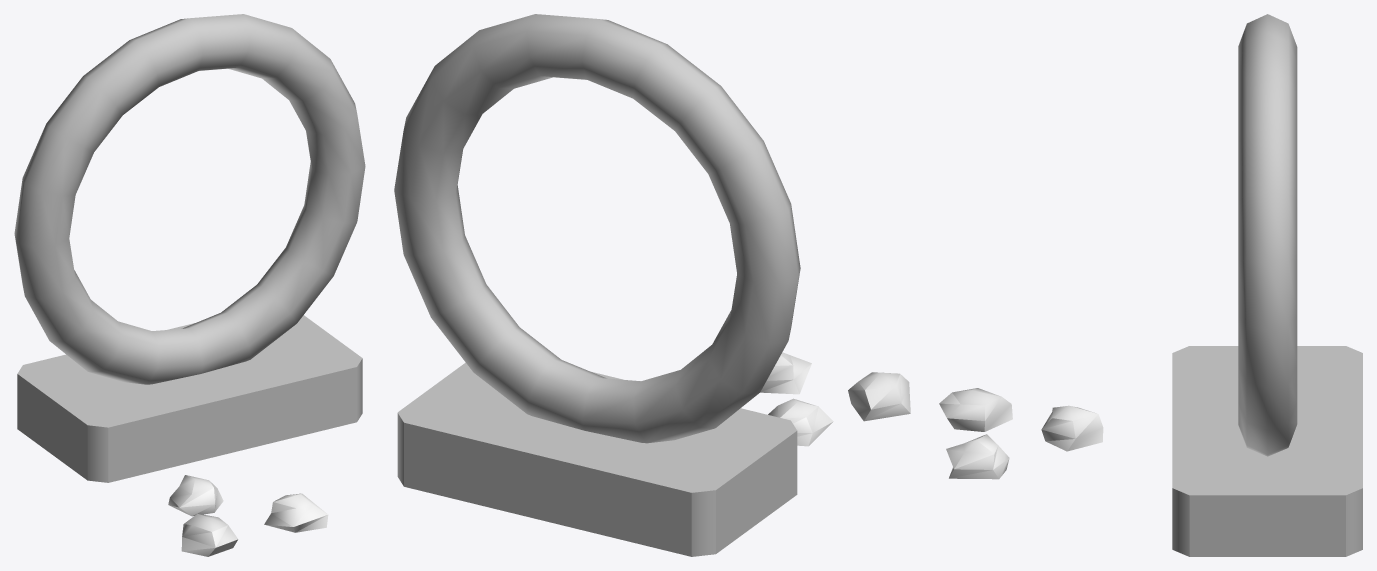
The model's file is hoopstone_ring.obj.
The picture shows the model from 3 angles, left to right: view 1: azimuth 30°, elevation 25°; view 2: azimuth 150°, elevation 25°; view 3: azimuth 270°, elevation 25°; orthographic projection. The views are drawn at different scales.
Parts seen in each view (by area): view 1: continuous_open_hoop, ground_plinth, throwing_stone_1, throwing_stone_3, throwing_stone_2; view 2: continuous_open_hoop, ground_plinth, throwing_stone_1, throwing_stone_2, throwing_stone_3; view 3: ground_plinth, continuous_open_hoop, throwing_stone_1, throwing_stone_2, throwing_stone_3.
Part boxes in pixels (bbox=[...]): continuous_open_hoop: bbox=[14, 14, 365, 384]; ground_plinth: bbox=[17, 315, 362, 482]; throwing_stone_1: bbox=[181, 513, 238, 556]; throwing_stone_3: bbox=[264, 493, 328, 532]; throwing_stone_2: bbox=[168, 475, 223, 516]; continuous_open_hoop: bbox=[394, 14, 800, 443]; ground_plinth: bbox=[397, 362, 797, 556]; throwing_stone_1: bbox=[848, 372, 910, 421]; throwing_stone_2: bbox=[768, 398, 833, 446]; throwing_stone_3: bbox=[760, 352, 811, 394]; ground_plinth: bbox=[1172, 346, 1362, 556]; continuous_open_hoop: bbox=[1238, 14, 1297, 456]; throwing_stone_1: bbox=[939, 388, 1012, 431]; throwing_stone_2: bbox=[1041, 405, 1103, 451]; throwing_stone_3: bbox=[946, 434, 1009, 479].
Bounding box in the file's own units: 0.6566 × 0.7283 × 0.6232.
